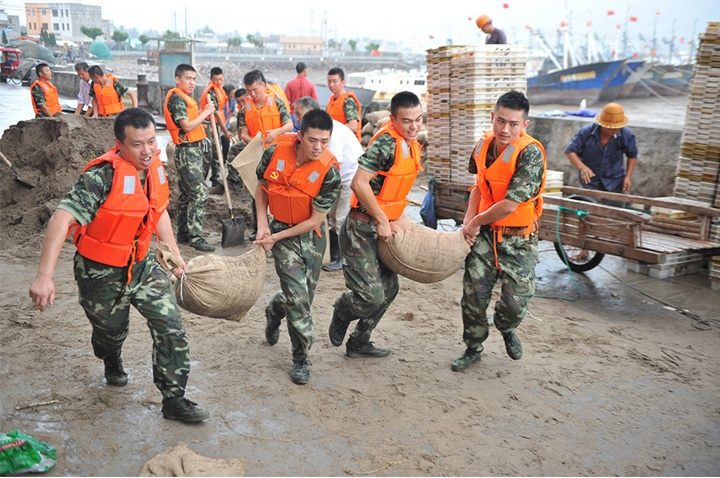helmet: (474, 15, 490, 30)
person with partial safety: (74, 116, 201, 428), (345, 94, 429, 357), (461, 95, 540, 372), (260, 113, 333, 391), (165, 67, 211, 253), (237, 72, 281, 145), (322, 66, 365, 140), (84, 63, 131, 117), (27, 64, 67, 122), (468, 15, 504, 46)
person without safety: (573, 104, 640, 234), (205, 70, 233, 142), (287, 61, 314, 108)
safety vest: (83, 148, 168, 271), (467, 129, 543, 238), (356, 123, 422, 218), (270, 136, 333, 224), (162, 88, 207, 149), (238, 89, 284, 144), (326, 92, 359, 142), (28, 79, 61, 122), (92, 80, 124, 117)
